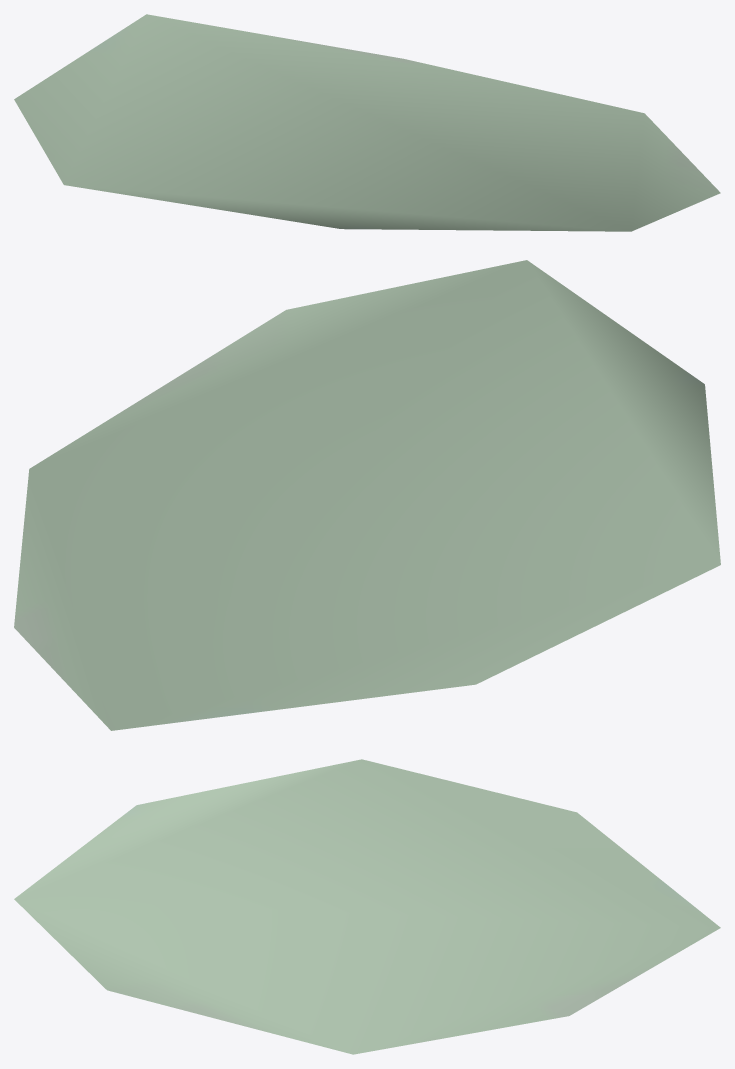
Rendered from TROLLHOLE02_HOLECAP170.fbx.
3 views of the same model, one above another, from view 1: azimuth 30°, elevation 25°; view 2: azimuth 150°, elevation 25°; view 3: azimuth 270°, elevation 25° (orthographic). The views are drawn at different scales.
Parts seen in each view (by area): view 1: TROLLHOLE02_HOLECAP170; view 2: TROLLHOLE02_HOLECAP170; view 3: TROLLHOLE02_HOLECAP170.
Part boxes in pixels (bbox=[...]): TROLLHOLE02_HOLECAP170: bbox=[14, 14, 720, 231]; TROLLHOLE02_HOLECAP170: bbox=[14, 260, 720, 730]; TROLLHOLE02_HOLECAP170: bbox=[14, 759, 720, 1054].
Size of the model in its own units: 20471 by 3142 by 25492.
1 material, 1 textured.
